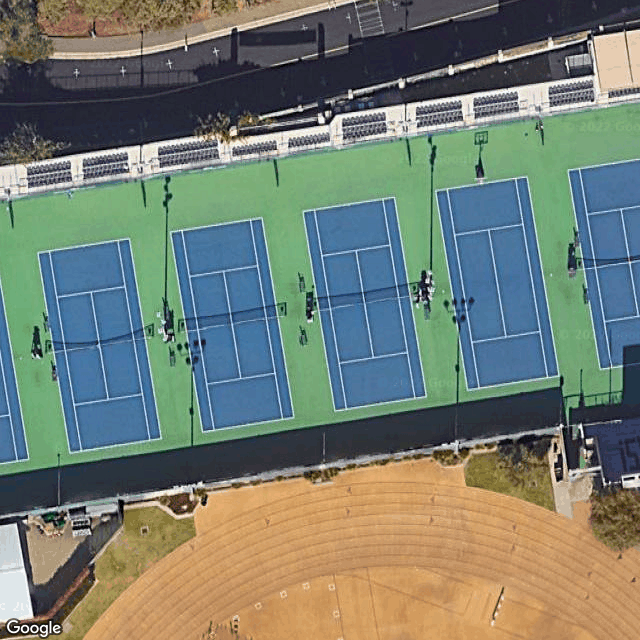Court: (36, 239, 163, 454), (302, 194, 427, 412), (436, 174, 561, 391), (171, 216, 295, 434), (568, 156, 640, 369), (0, 279, 30, 467)
